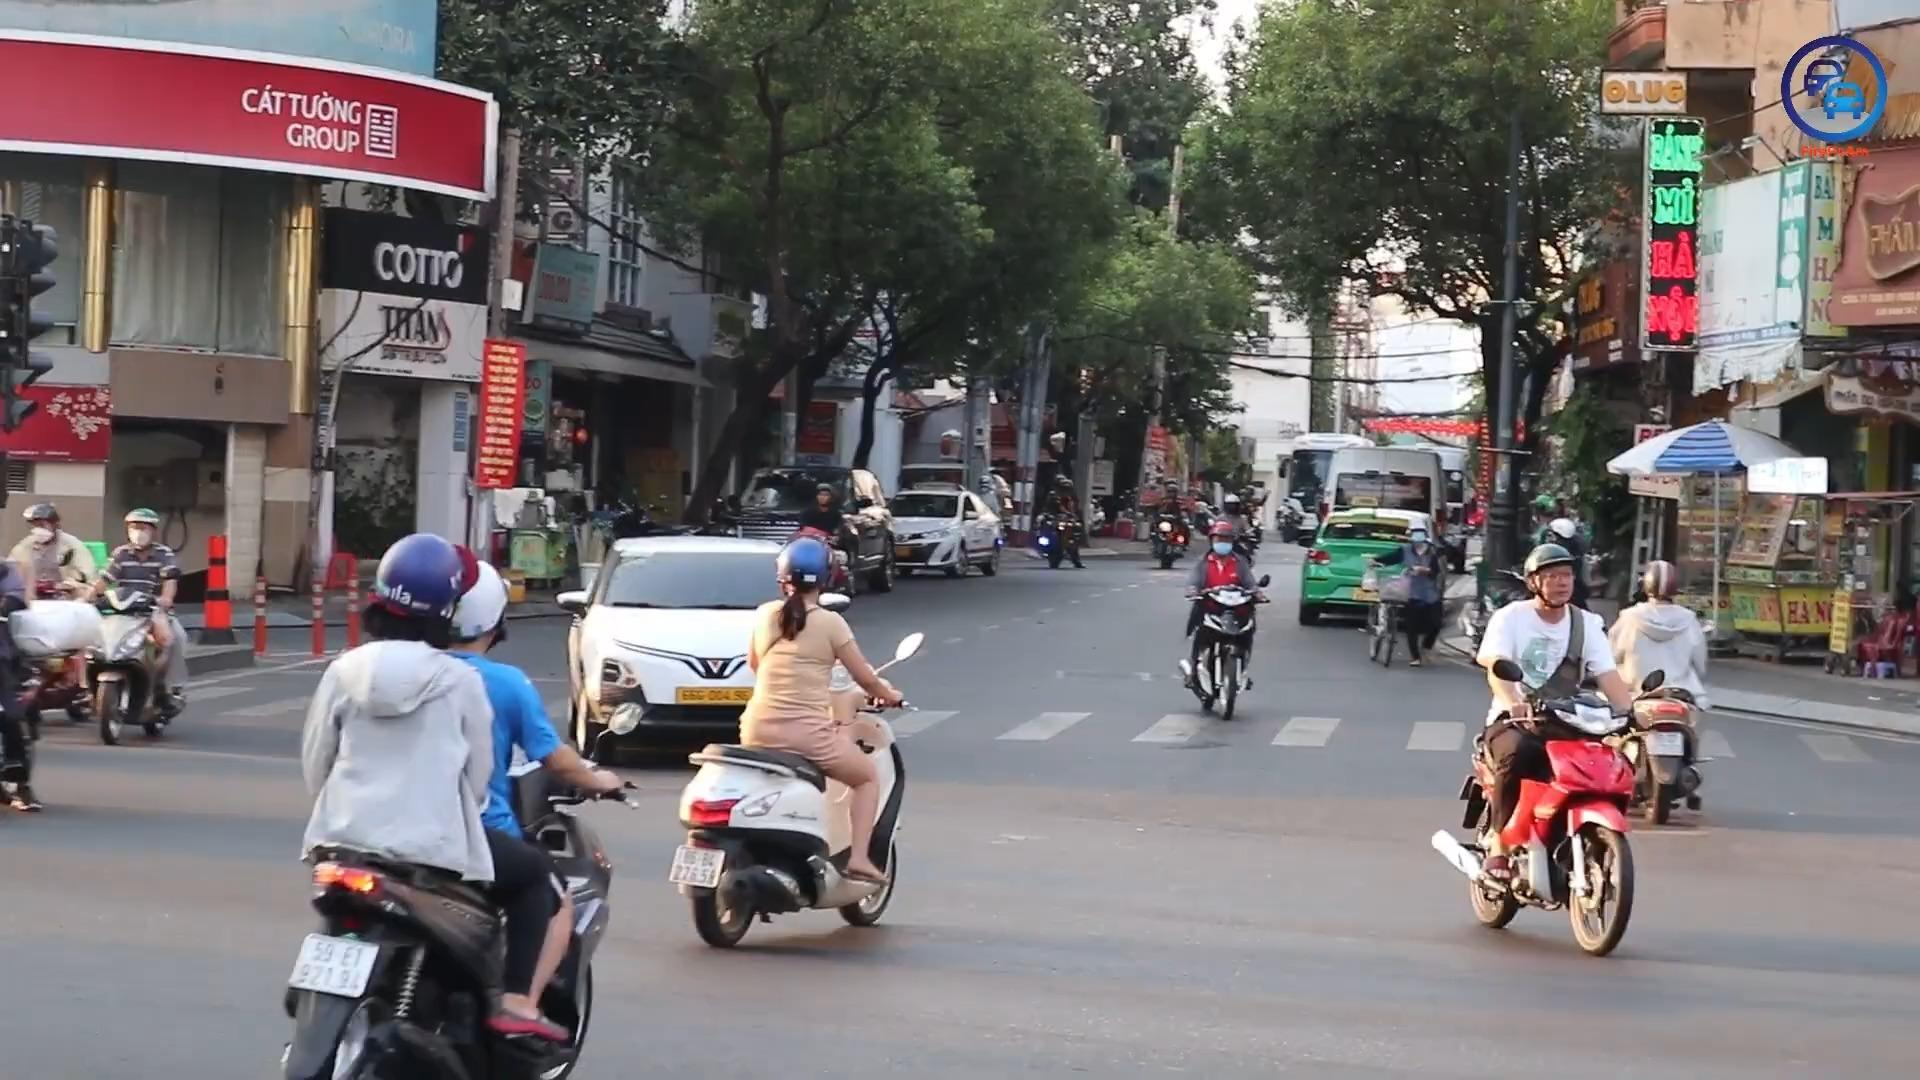bien_so: (286, 931, 380, 1000), (667, 844, 725, 888), (673, 685, 756, 704), (1645, 731, 1686, 758)
